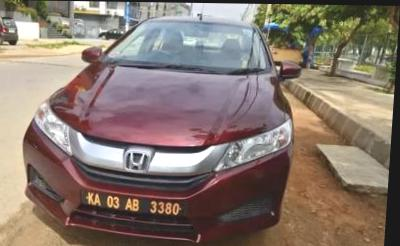License_Plate: (81, 189, 185, 219)
